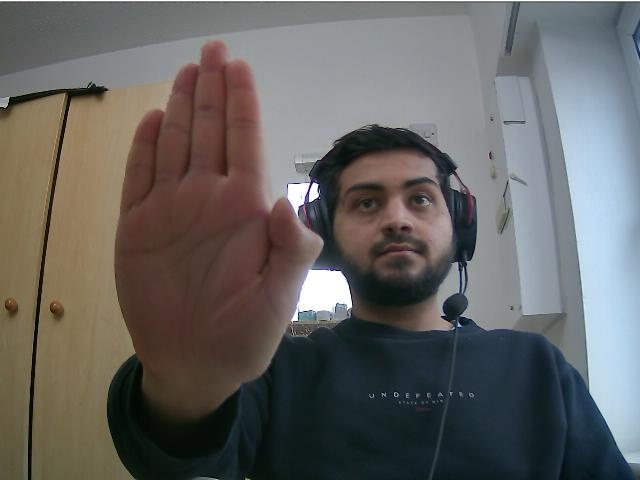up: (112, 35, 327, 380)
